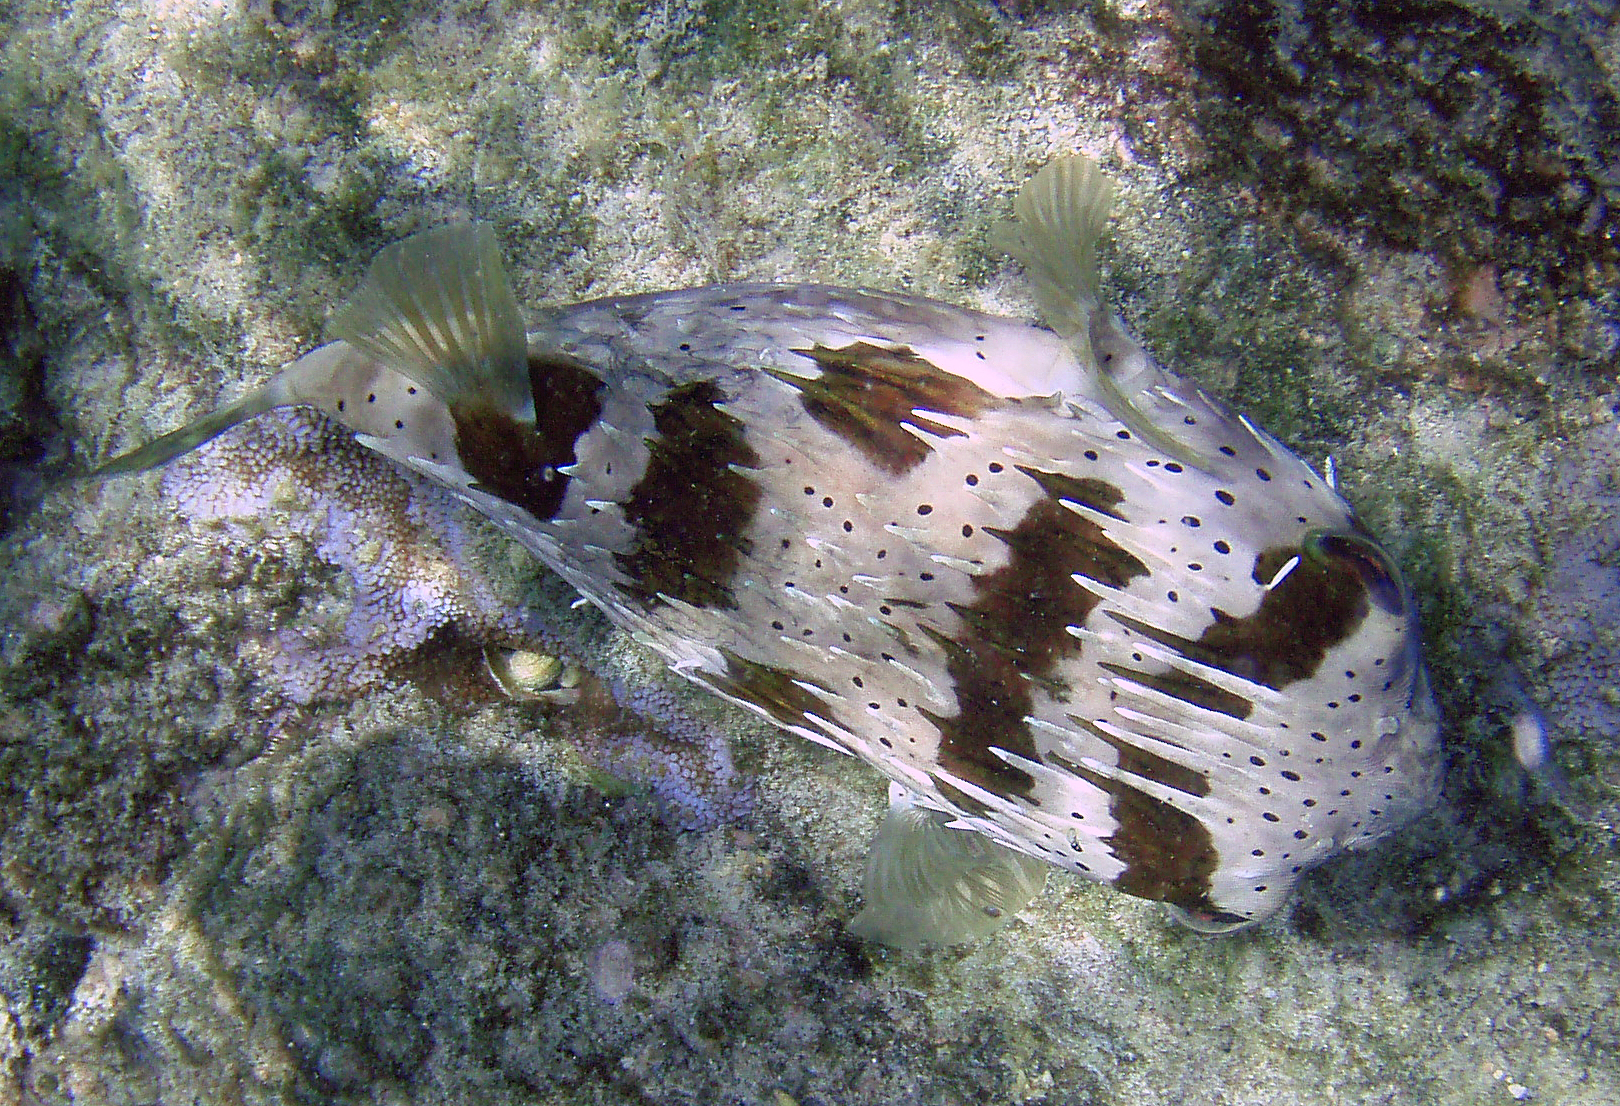Diodon_holocanthus: (318, 185, 1523, 955)
